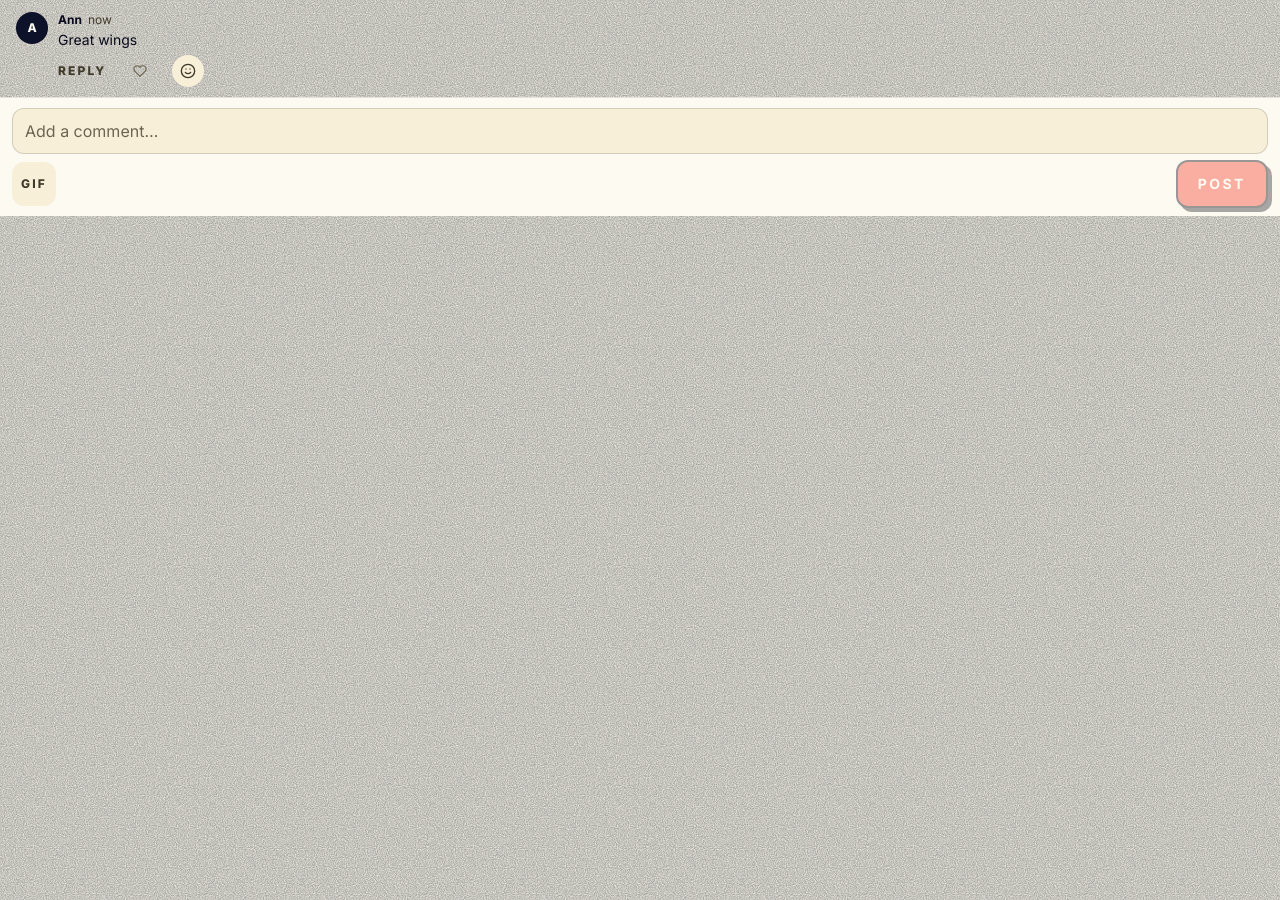
Comment threads › keeps the thread open after you post a reply, so the reply is visible
This screenshot has width=1280, height=900.
Click the button "Reply".
click(82, 71)  # box [50,49,114,93]
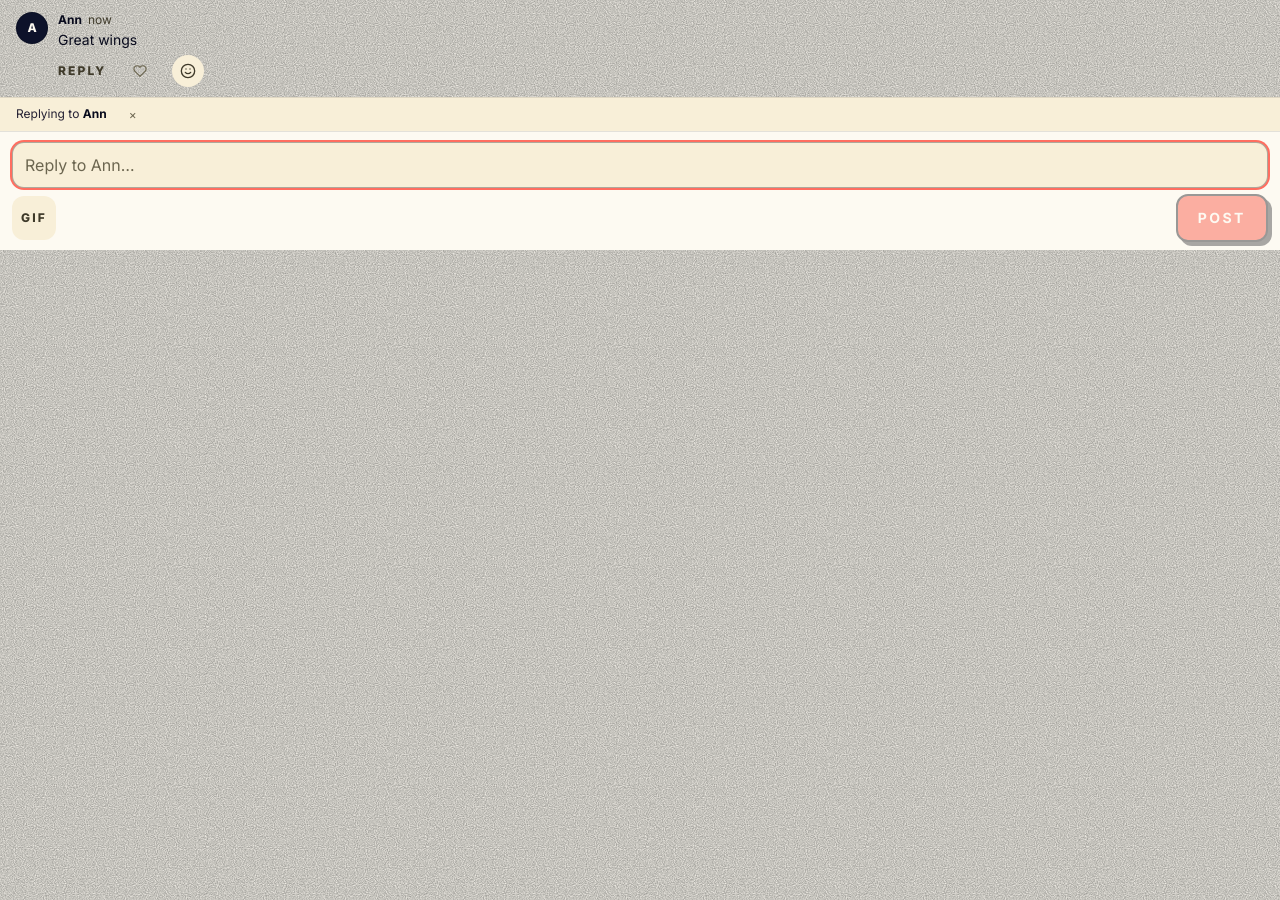
Type "Agreed" into the text box.
click(640, 165); type("Agreed")  # box [12,142,1268,188]
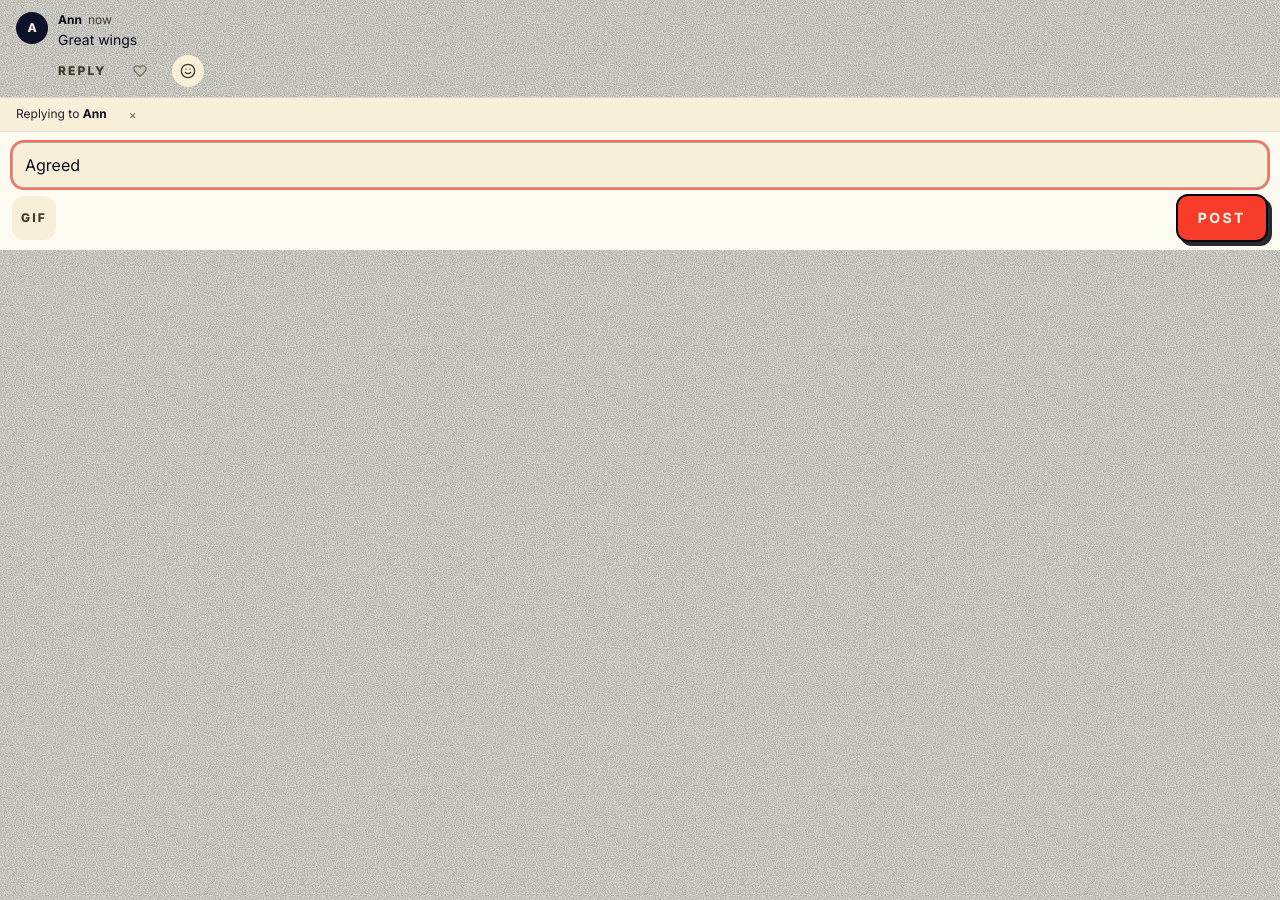
Click the button "Post".
click(1222, 218)  # box [1176,194,1268,242]
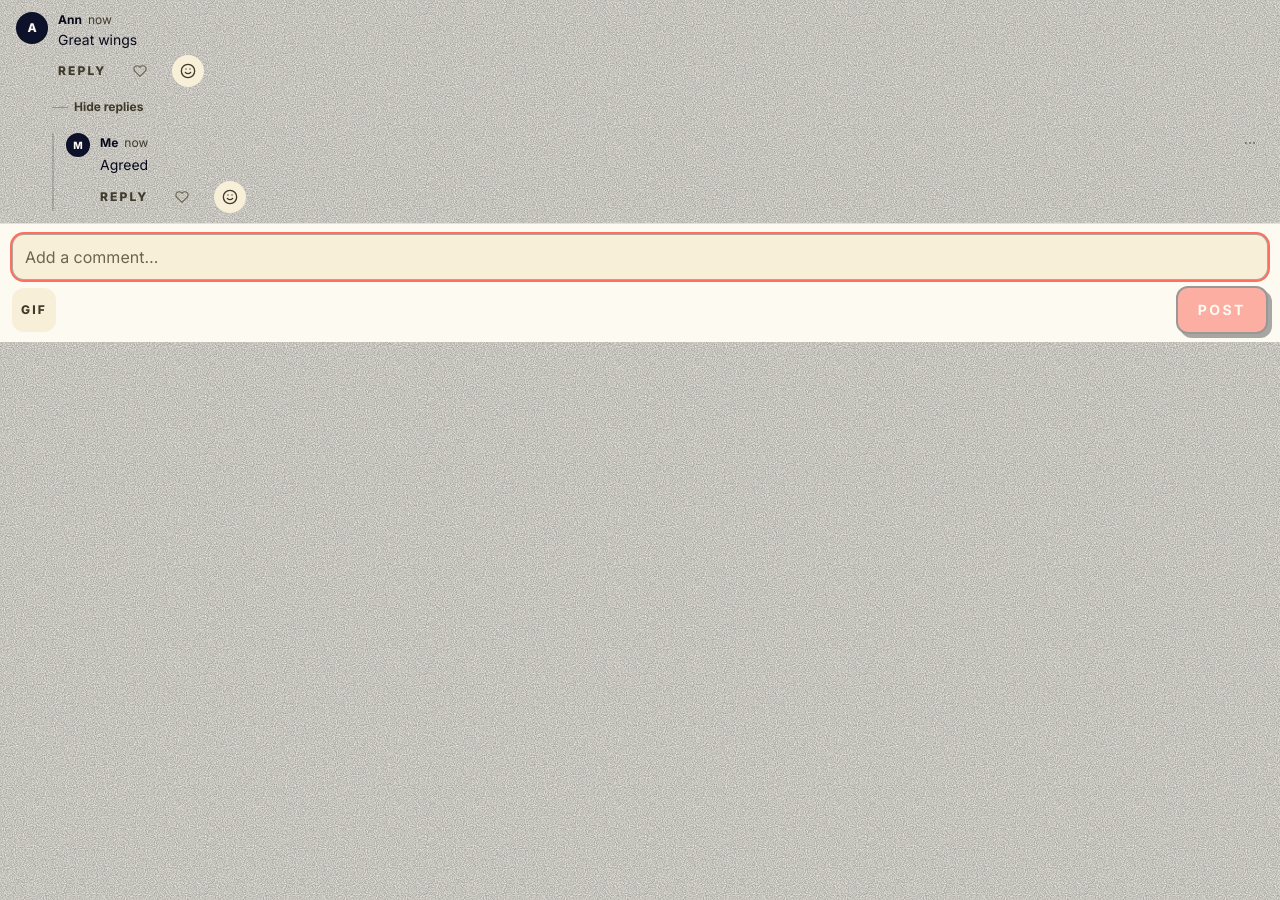
Expected: the text "Agreed" is shown, [100,156,148,173]
Expected: the button "Hide replies" is shown, [52,85,144,129]
